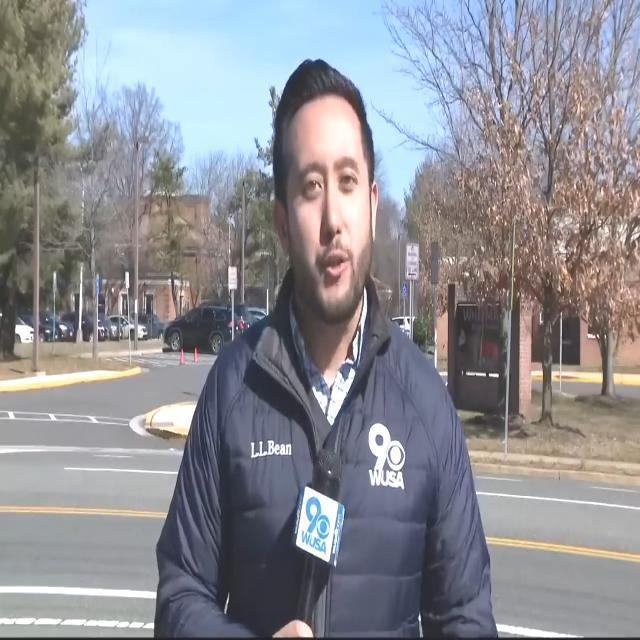non-fight: (192, 75, 544, 571)
